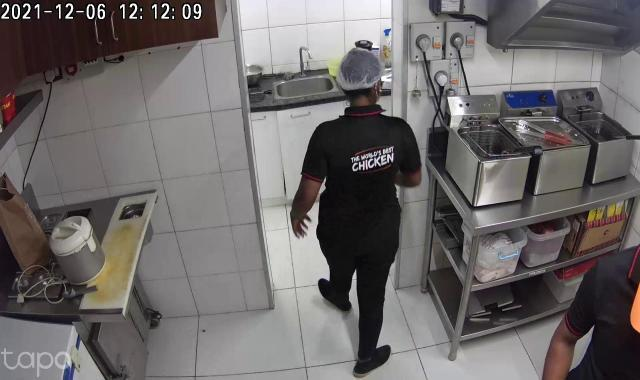Hairnet: (333, 44, 387, 94)
No_Apron: (325, 121, 396, 266), (592, 278, 640, 380)
No_Glove: (286, 210, 314, 241)
No_Hairnet: (628, 278, 640, 335)
